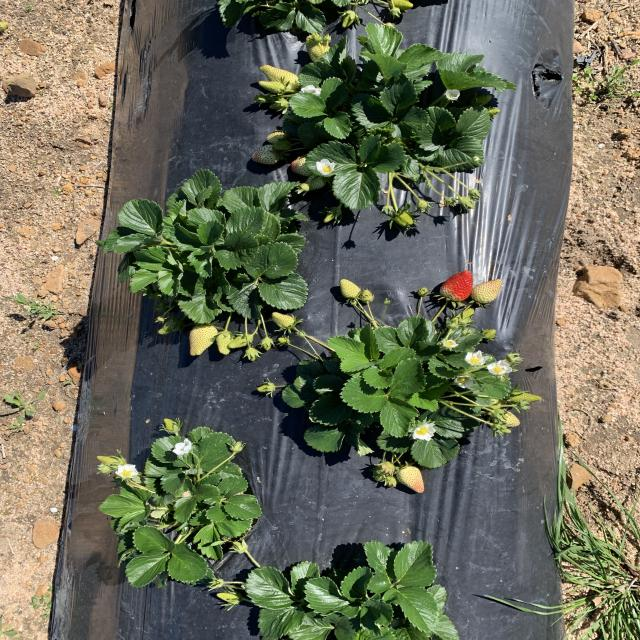unripe: (440, 269, 474, 303)
